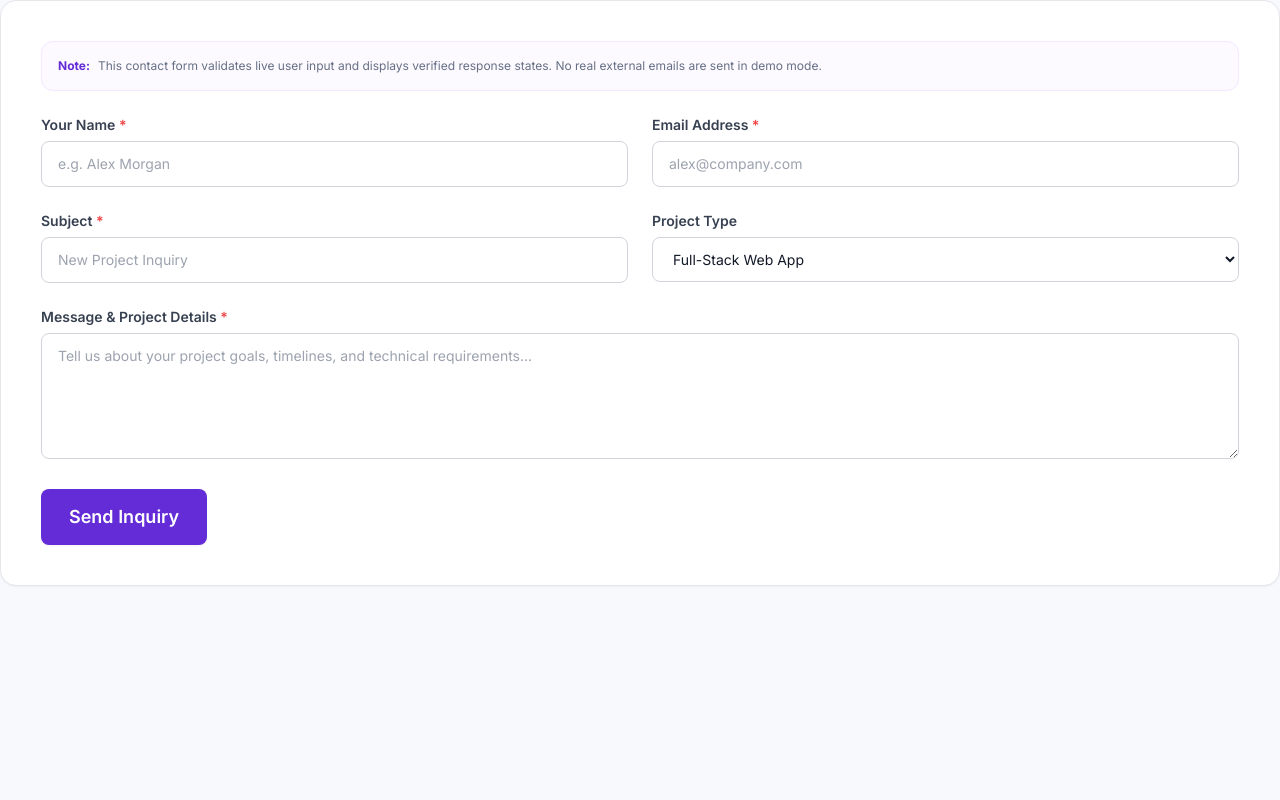
Test case: Contact Form Validation & Simulation › validates message length minimum
Type "Jane Doe" into the field labelled "Your Name *" at (334, 164), box [41, 141, 628, 187]
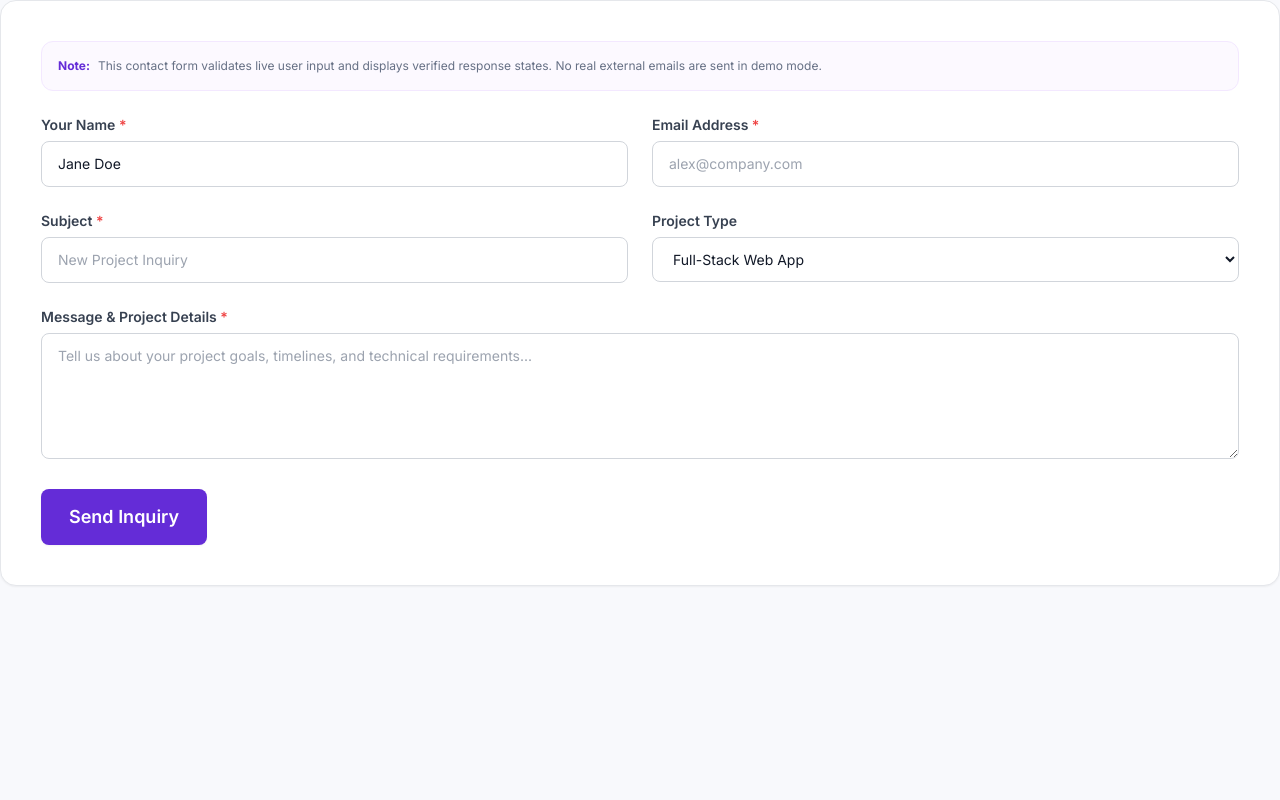
Type "jane@example.com" into the field labelled "Email Address *" at (946, 164), box [652, 141, 1239, 187]
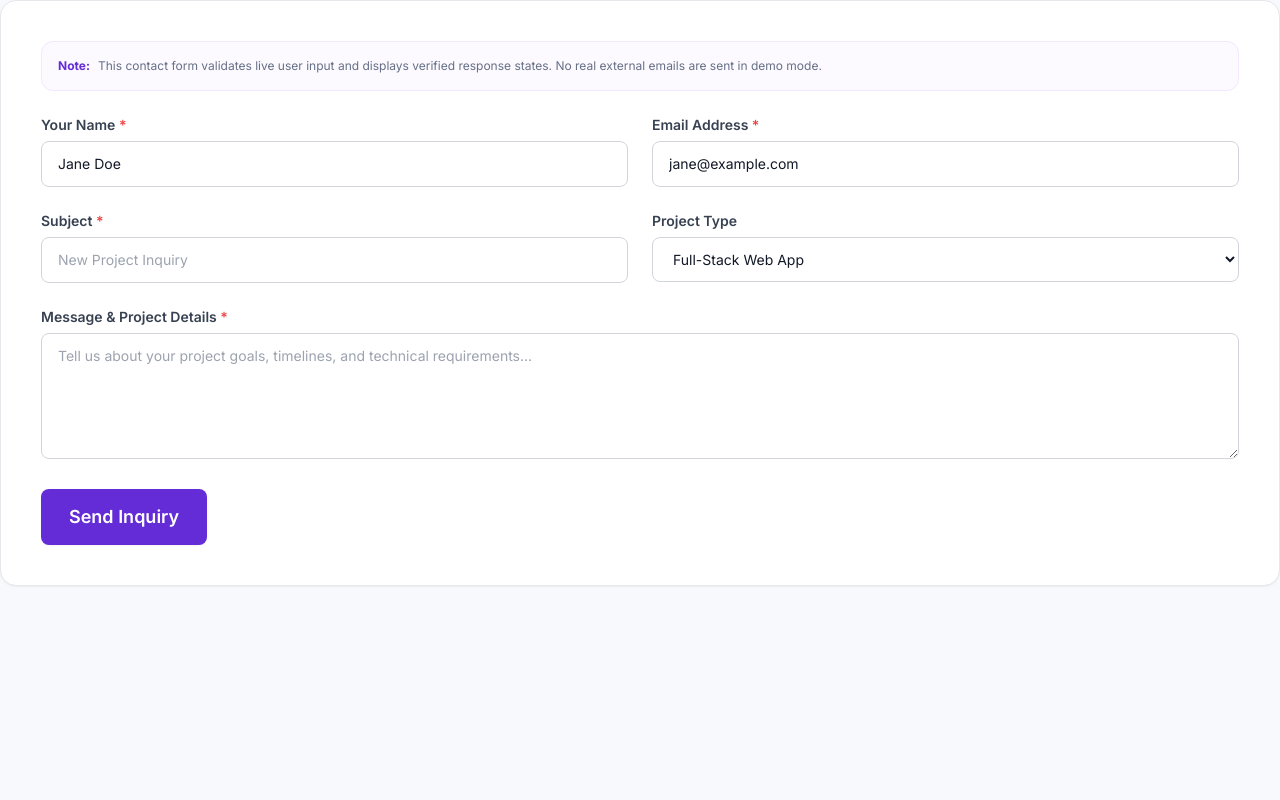
Type "Project Quote" into the field labelled "Subject *" at (334, 260), box [41, 237, 628, 283]
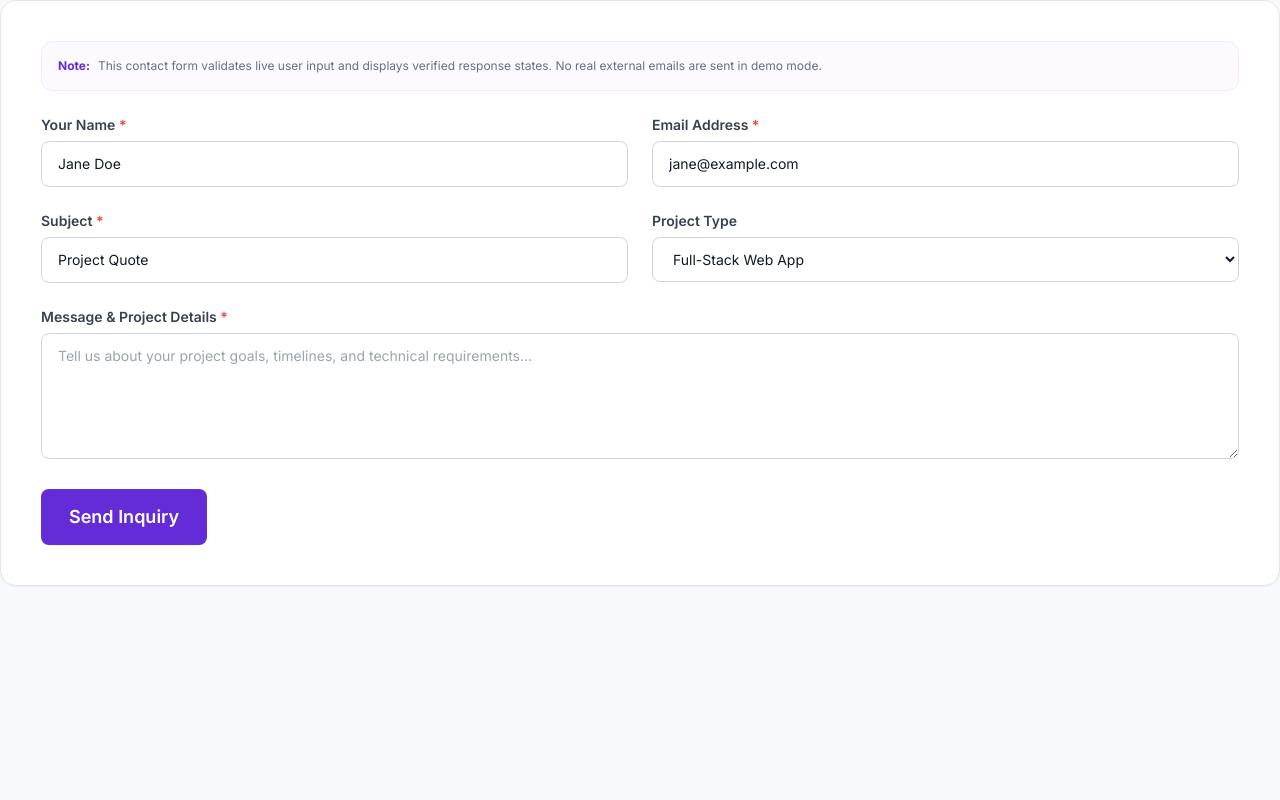
Replace the text in the text box labelled "Message & Project Details *" with "Too short" at (640, 396), box [41, 333, 1239, 459]
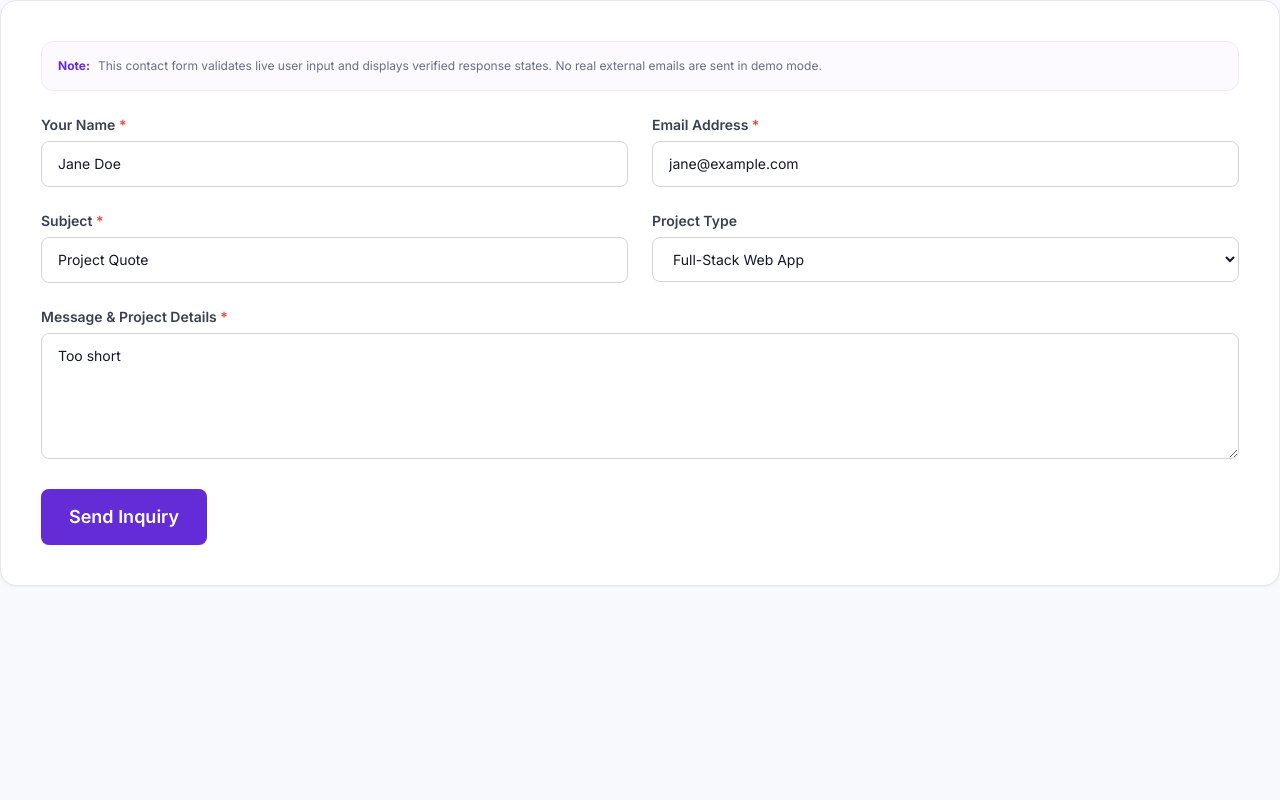
Click the button "Send Inquiry" at (124, 517), box [41, 489, 207, 545]
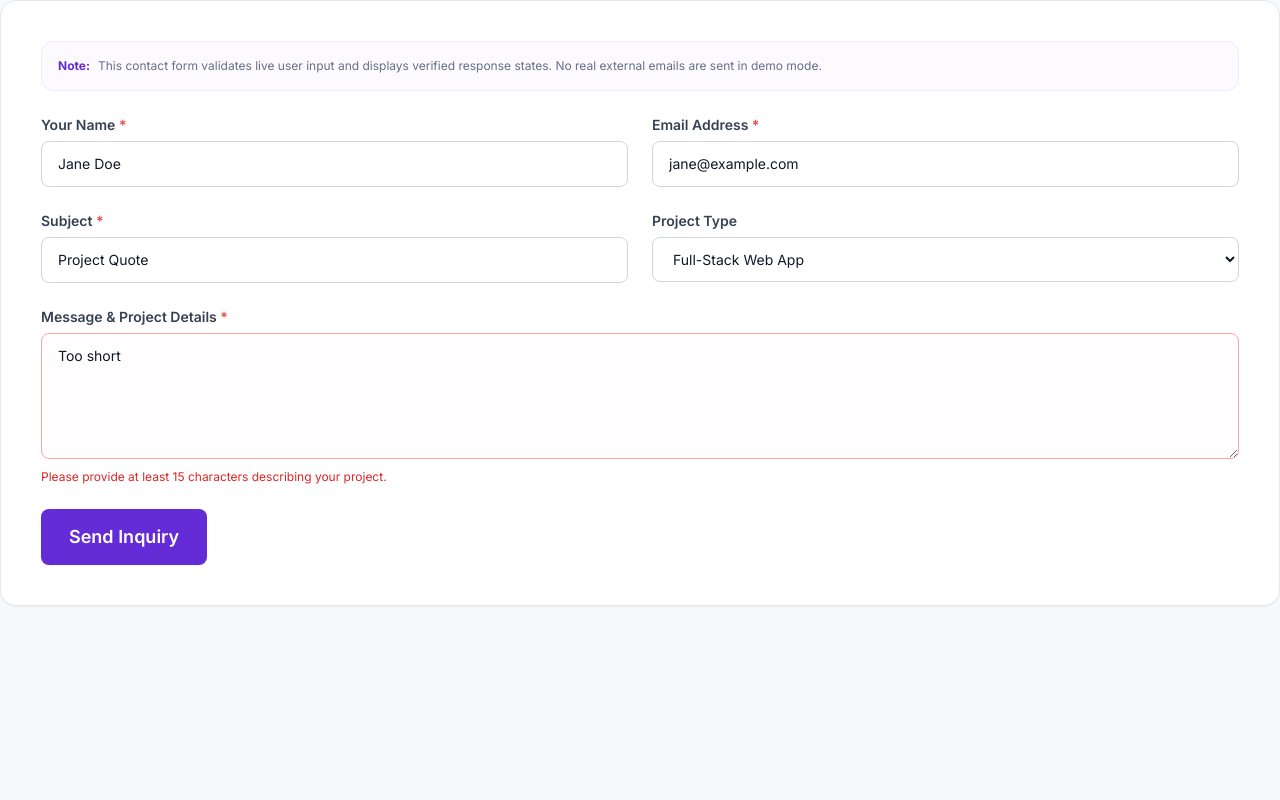
Result: the text "Please provide at least 15 characters describing your project" is shown at [41, 469, 387, 484]
